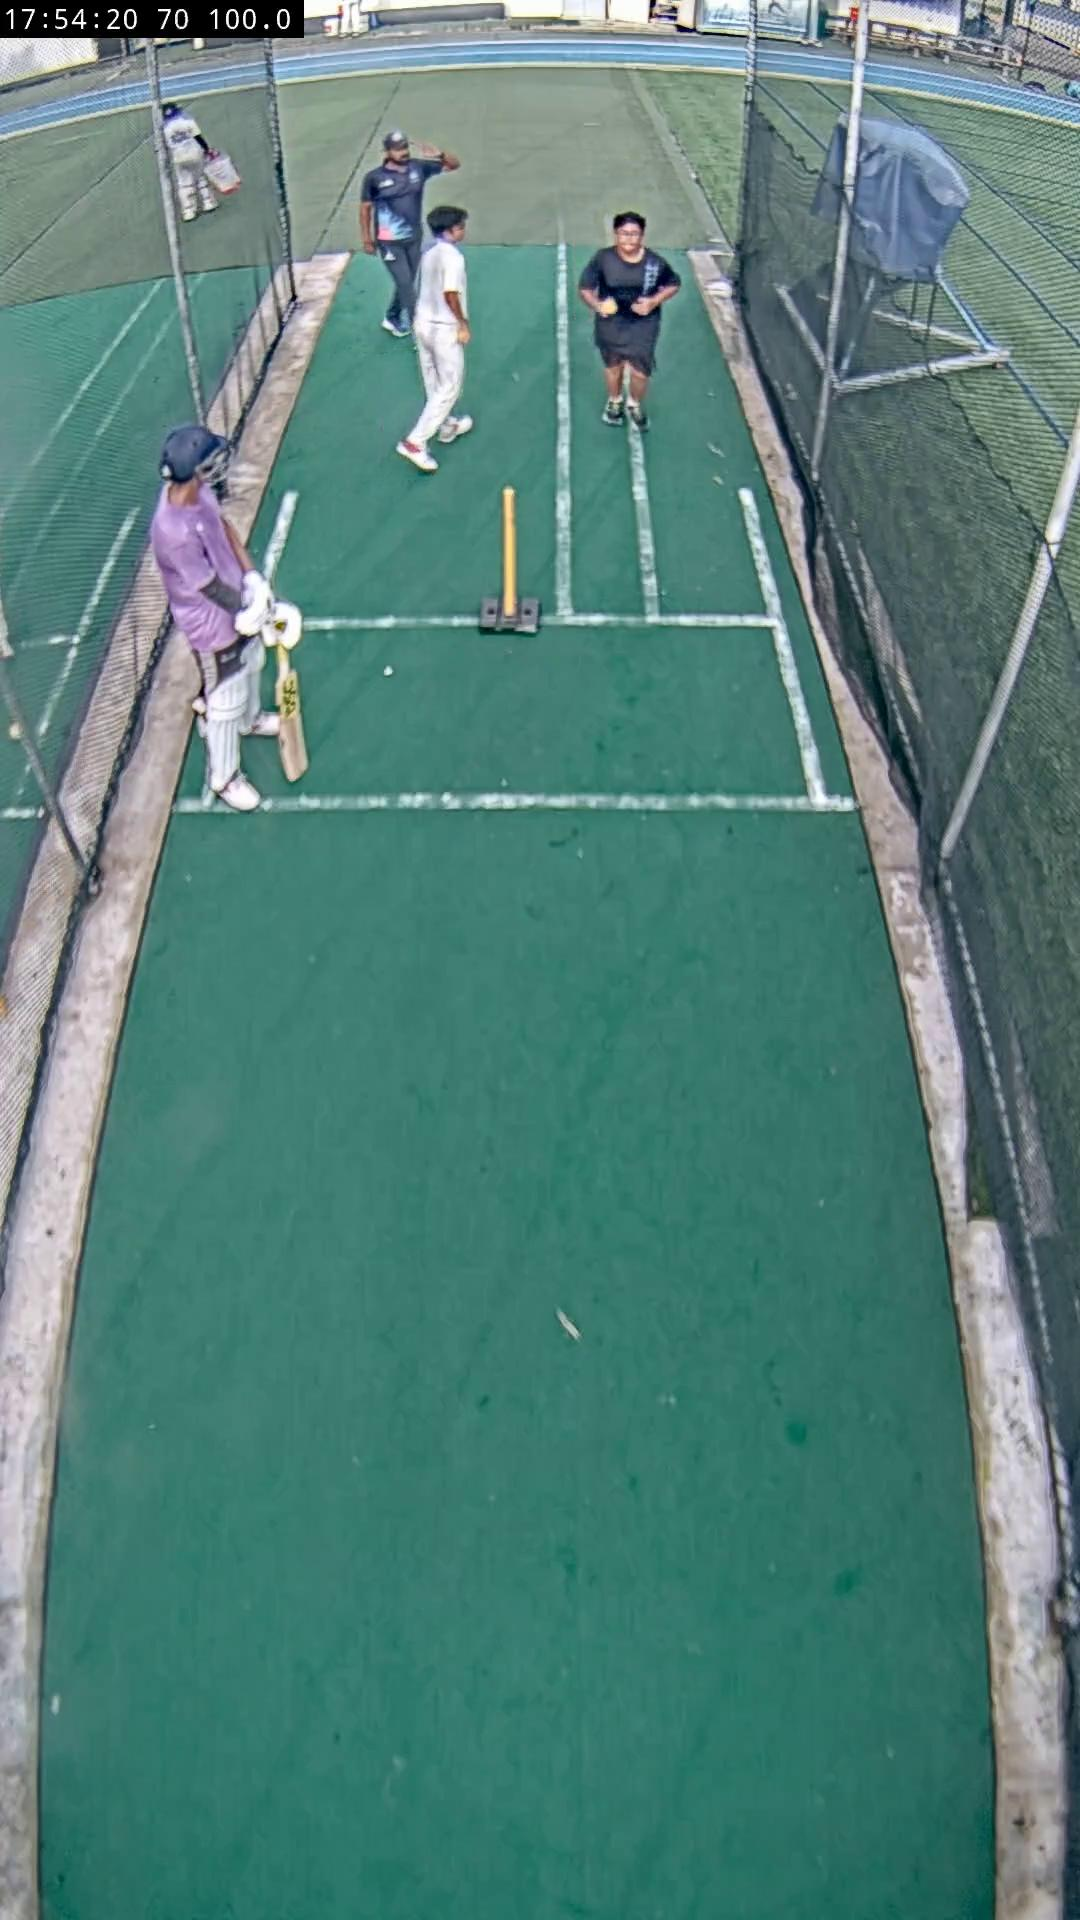ball: (600, 297, 618, 319)
stumps: (480, 488, 541, 634)
